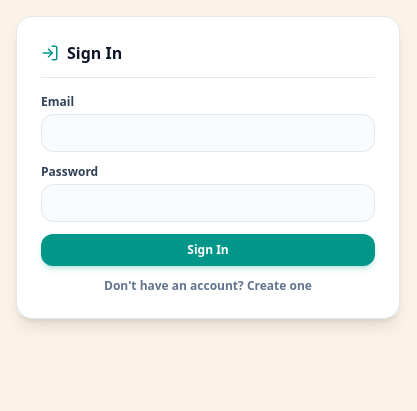
Test: LoginPage Component › displays error message if login fails
Type "wrong@example.com" into the field labelled "Email" at [208, 133], box [41,114,375,152]
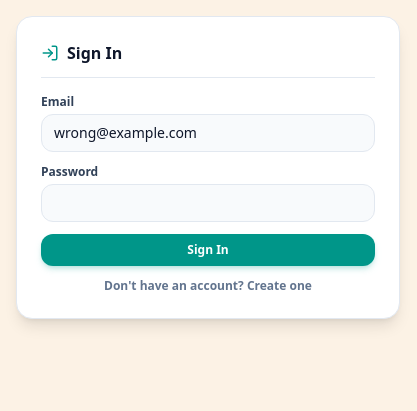
Type "wrongpass" into the password field labelled "Password" at [208, 203], box [41,184,375,222]
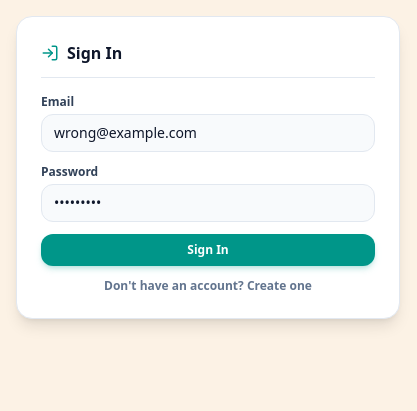
Click the button "Sign In" at [208, 250], box [41,234,375,266]
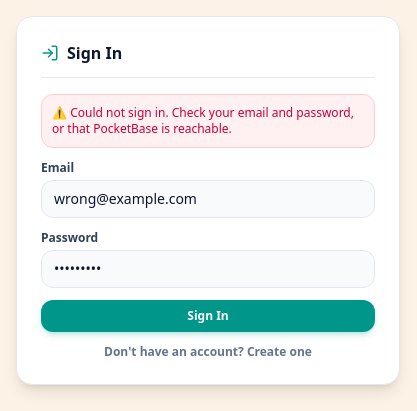
Check: the text "Could not sign in" is shown, box [52,104,354,137]
